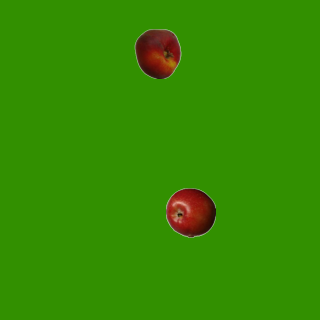Apple Braeburn: (165, 187, 215, 237)
Nectarine Flat: (132, 28, 182, 78)
